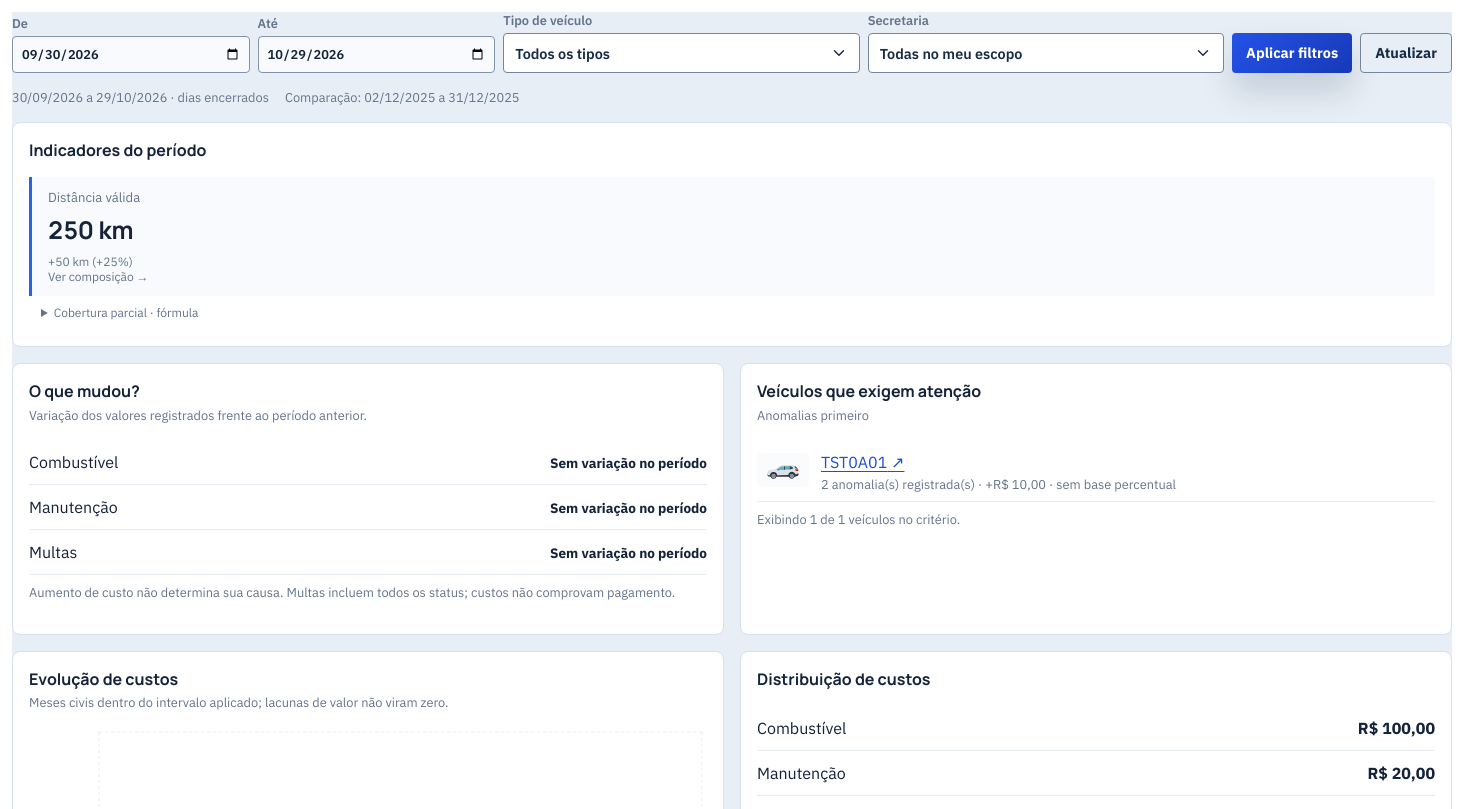
Scenario: Cockpit V2 › rejeita janela invertida sem consultar novamente
This screenshot has width=1464, height=809.
Expected: the text "250 km" is shown, [48,213,134,246]
Type "2025-02-01" into the date field labelled "De" at (131, 54), box [12,36,250,73]
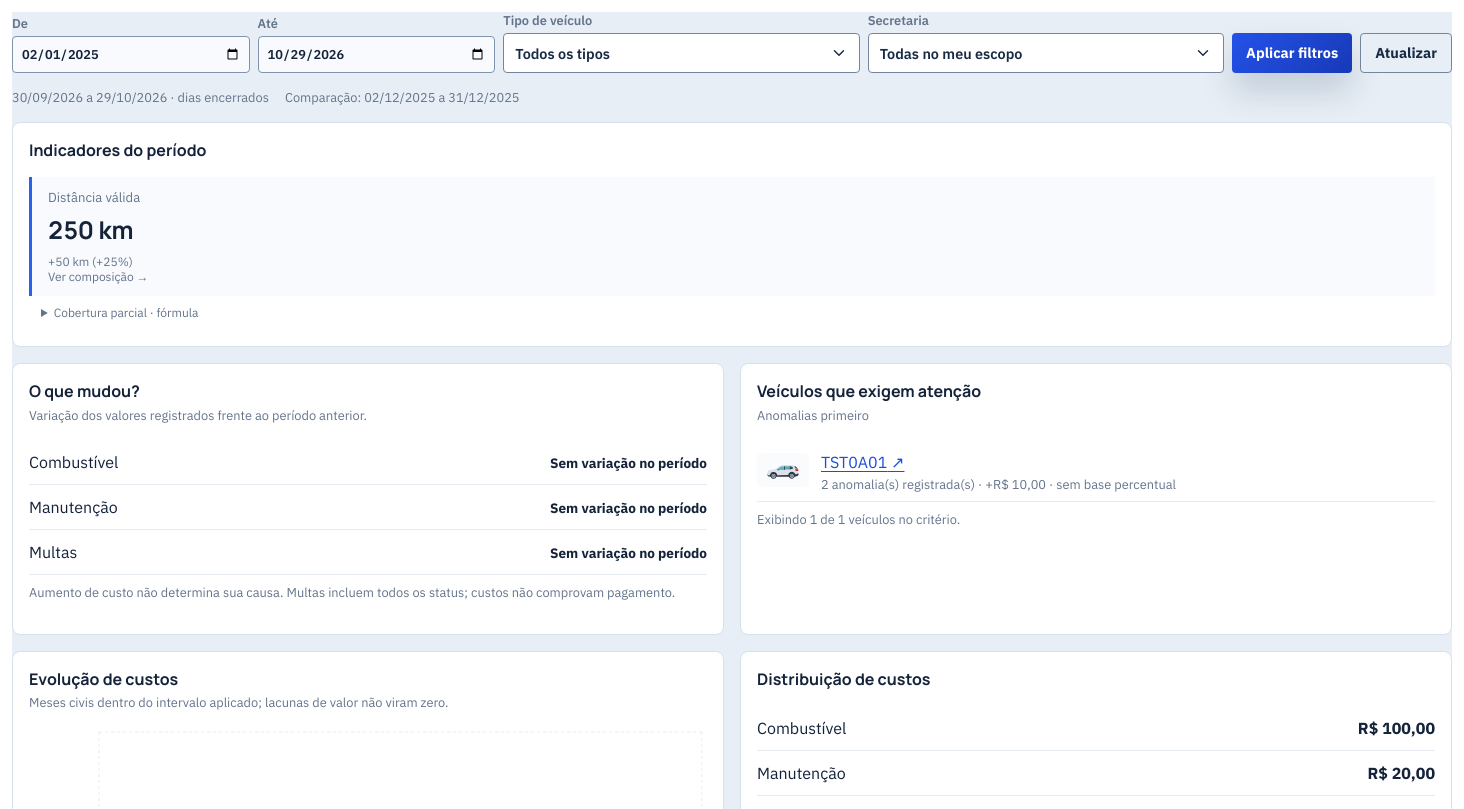
Type "2025-01-01" into the date field labelled "Até" at (376, 54), box [258,36,495,73]
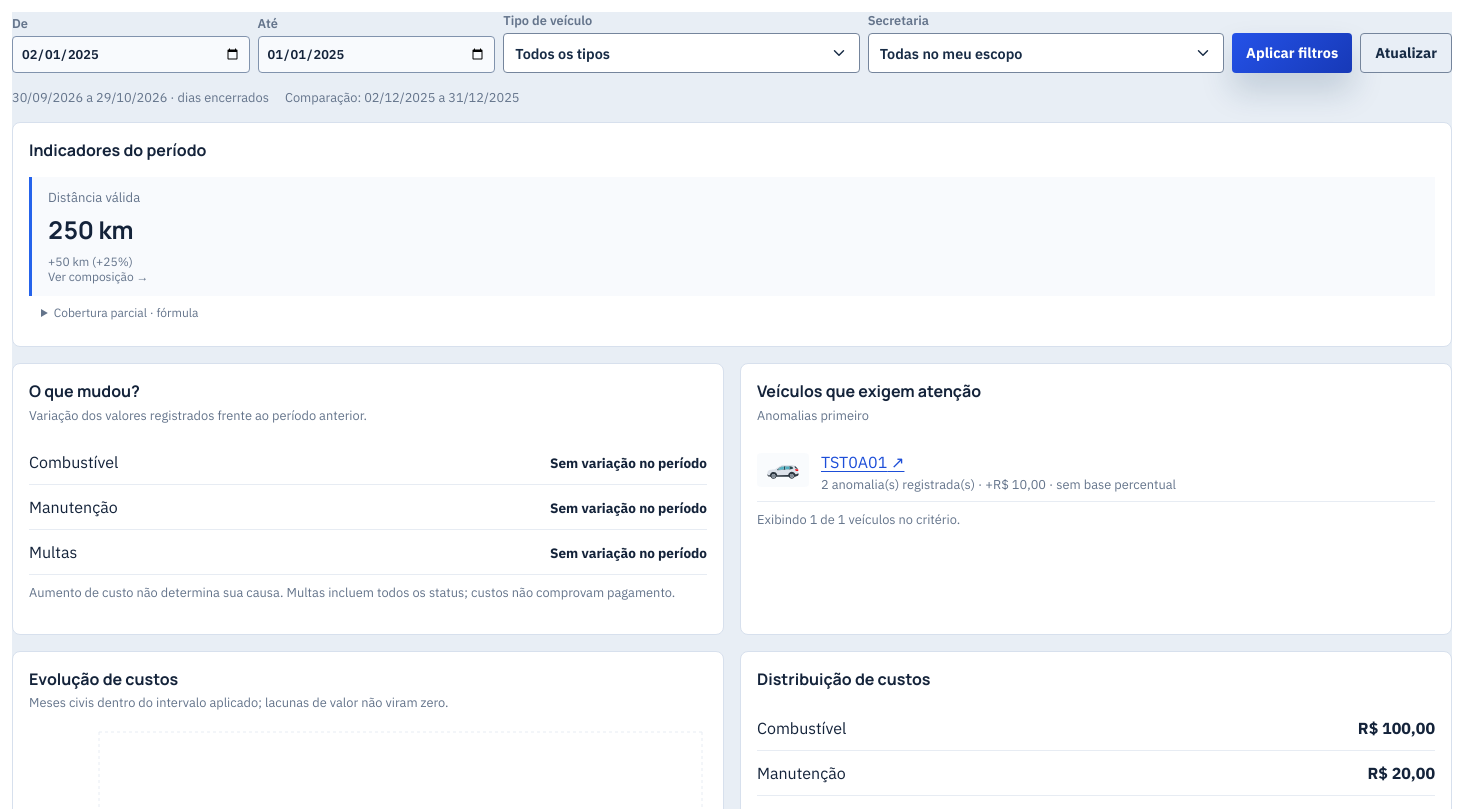
Click the button "Aplicar filtros" at (1292, 53), box [1232,33,1352,73]
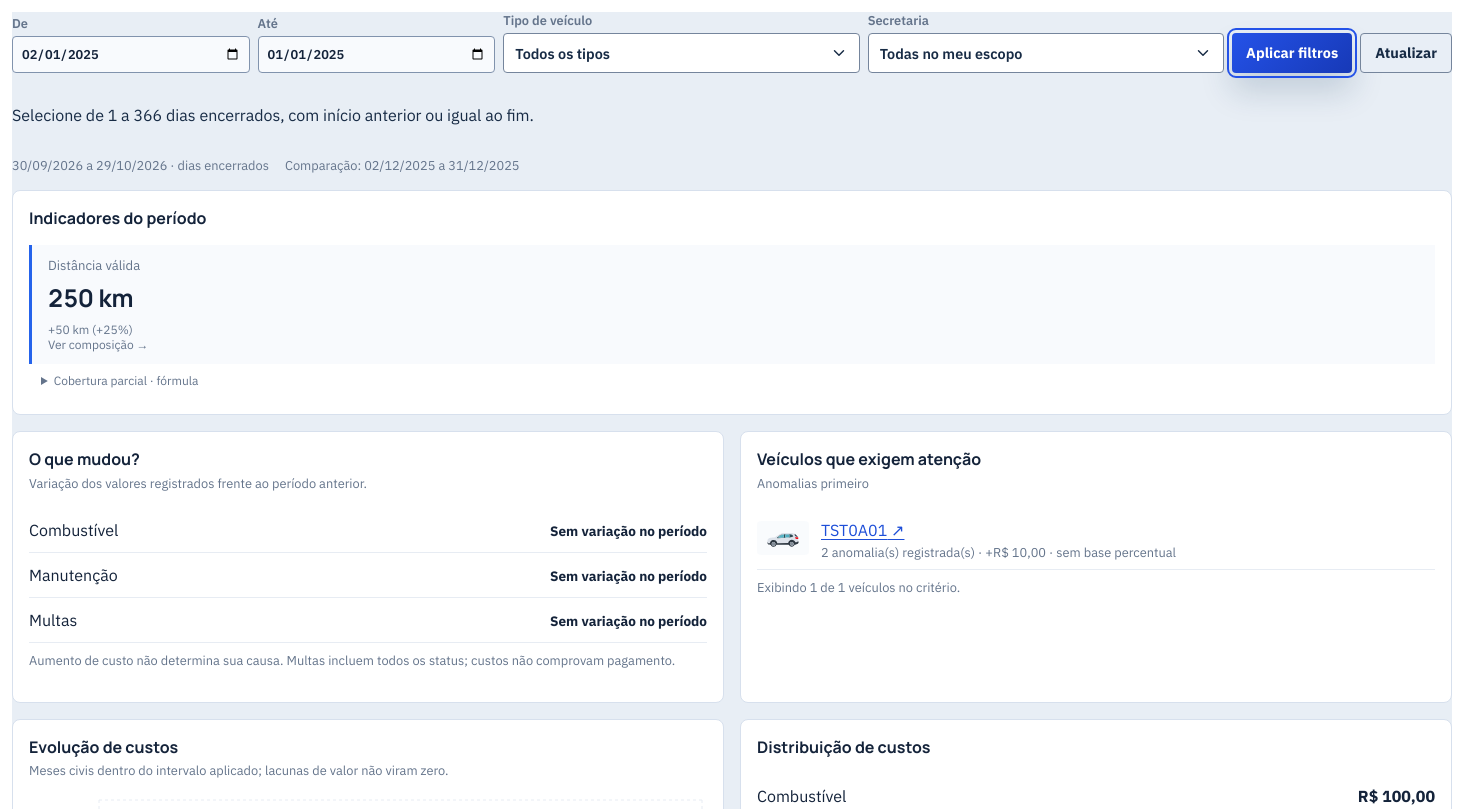
Result: the message shows "Selecione de 1 a 366 dias encerrados" at [12,105,534,125]
